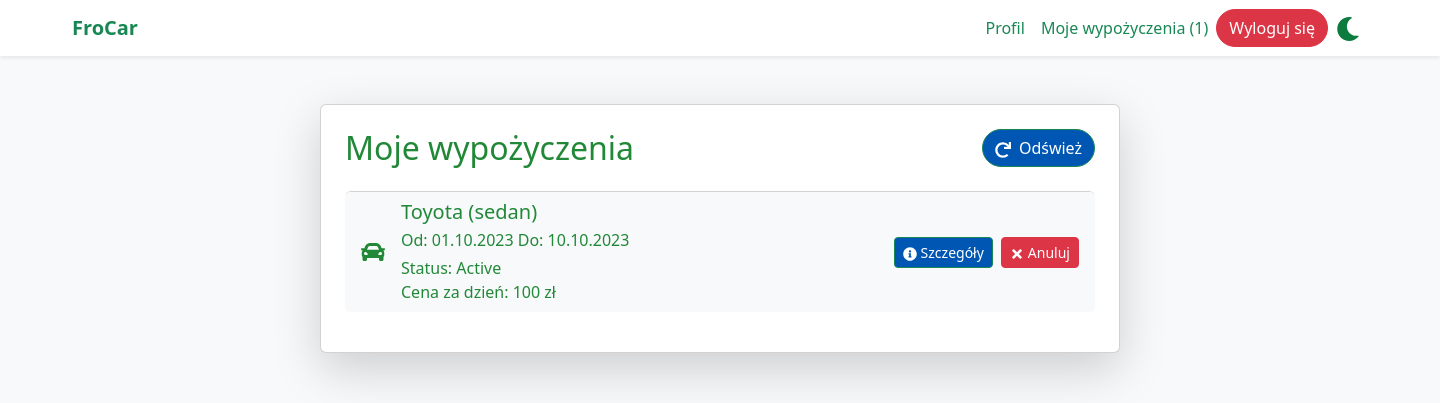
RentalsPage › powinno anulować wypożyczenie
The image size is (1440, 403).
What coordinates should you click on to do the following:
click the button "Anuluj"
I would click on:
 (1040, 253)
Its box is [1001,237,1079,268].
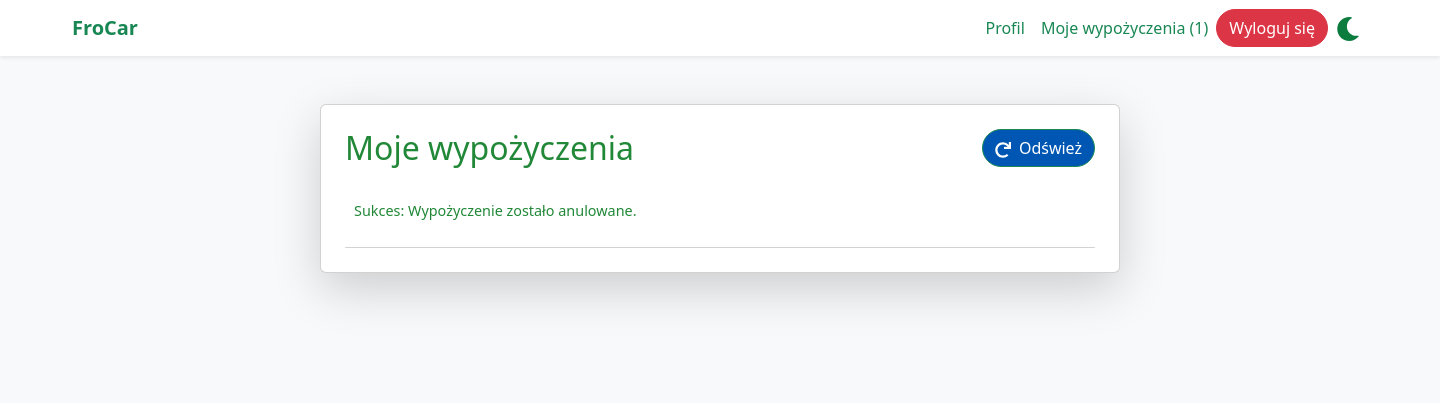
Expected: the text "Sukces: Wypożyczenie zostało anulowane." is shown, [354,200,636,222]
Expected: no elements with class "list-group-item" are shown
